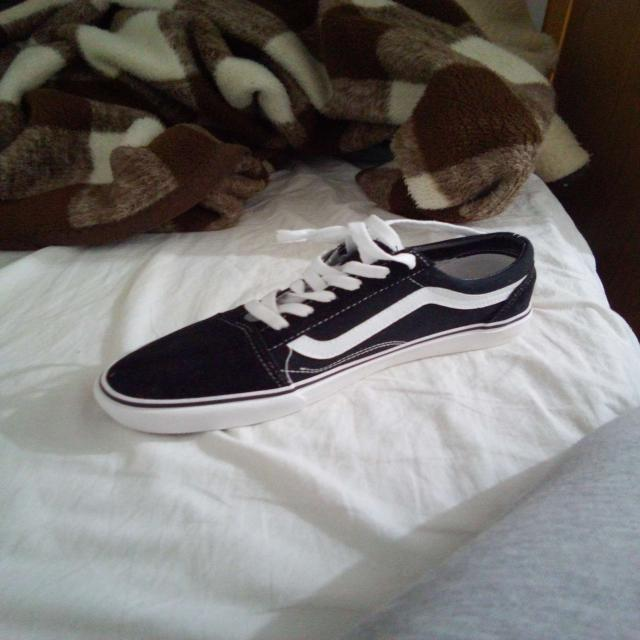shoe: (92, 215, 538, 434)
